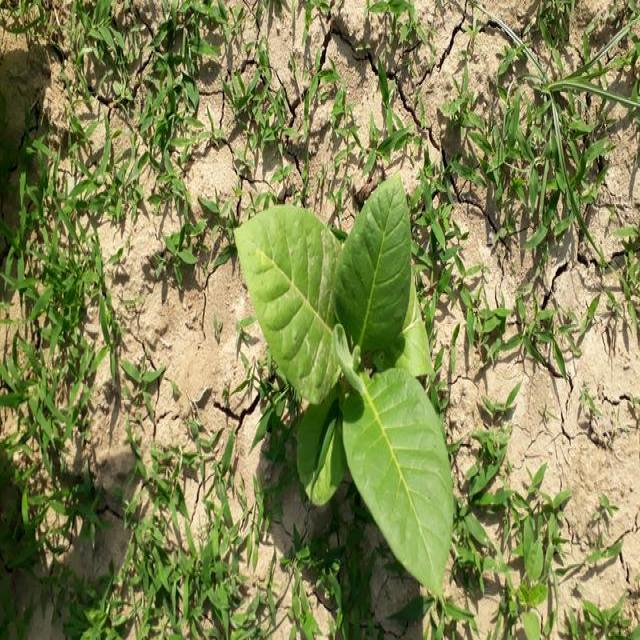crop: (229, 182, 461, 612)
